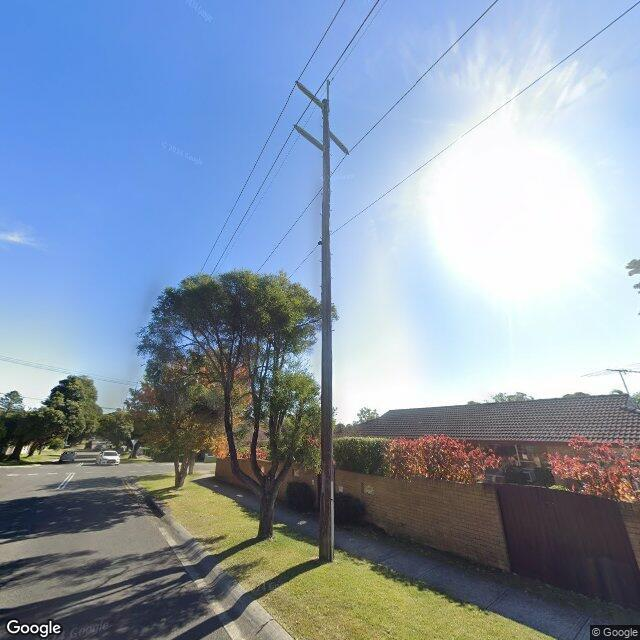HV-transmission: (293, 78, 348, 155)
timber-pole: (320, 98, 333, 565)
